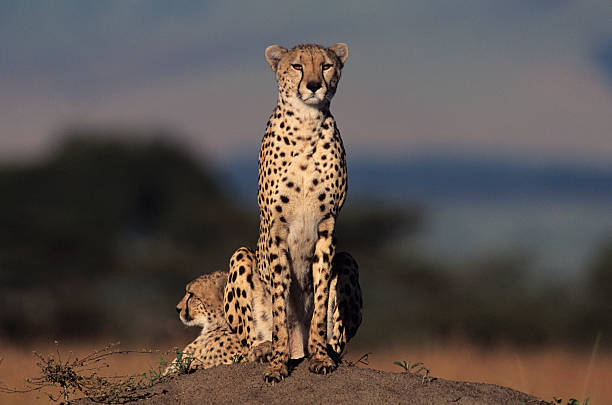cheetah: (247, 29, 362, 124)
